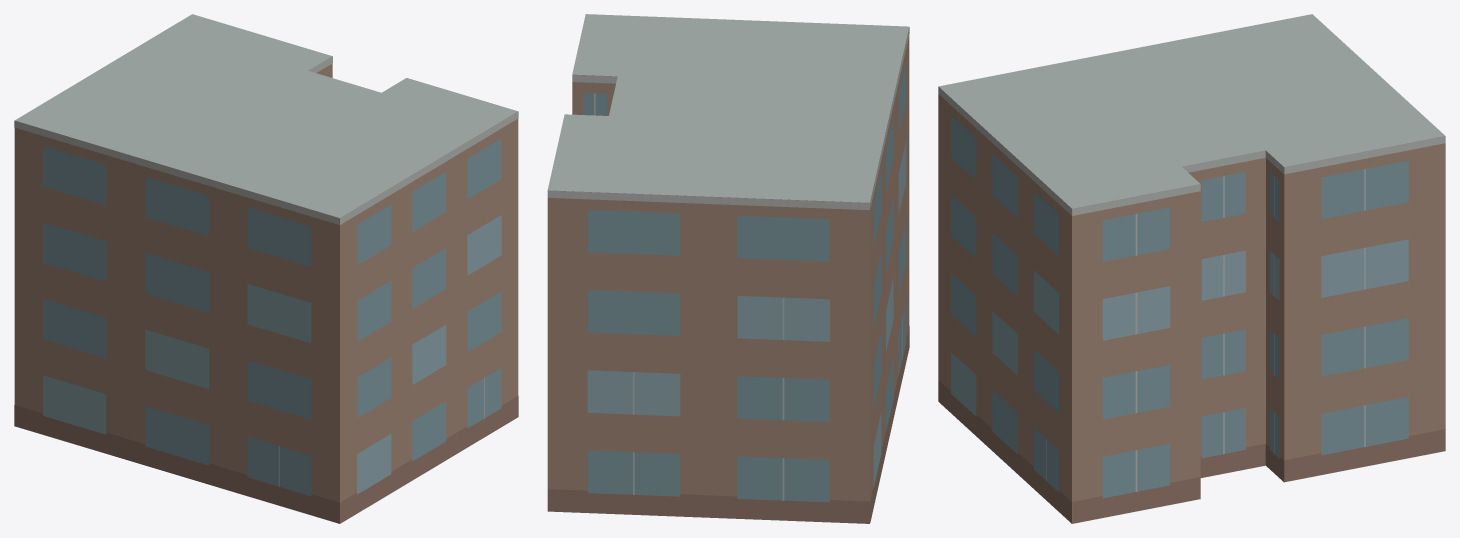
Rendered from survey-upis-32729246.glb.
3 renders of one model, left to right at view 1: azimuth 30°, elevation 25°; view 2: azimuth 150°, elevation 25°; view 3: azimuth 270°, elevation 25°, orthographic. The views are drawn at different scales.
Parts seen in each view (by area): view 1: survey-upis-32729246.tmp; view 2: survey-upis-32729246.tmp; view 3: survey-upis-32729246.tmp.
Part boxes in pixels (x1,y1,x2,y2): survey-upis-32729246.tmp: (14,14,518,523); survey-upis-32729246.tmp: (547,14,909,523); survey-upis-32729246.tmp: (938,14,1445,523).
Bounding box in the file's own units: 14.06 × 10.6 × 15.48.
